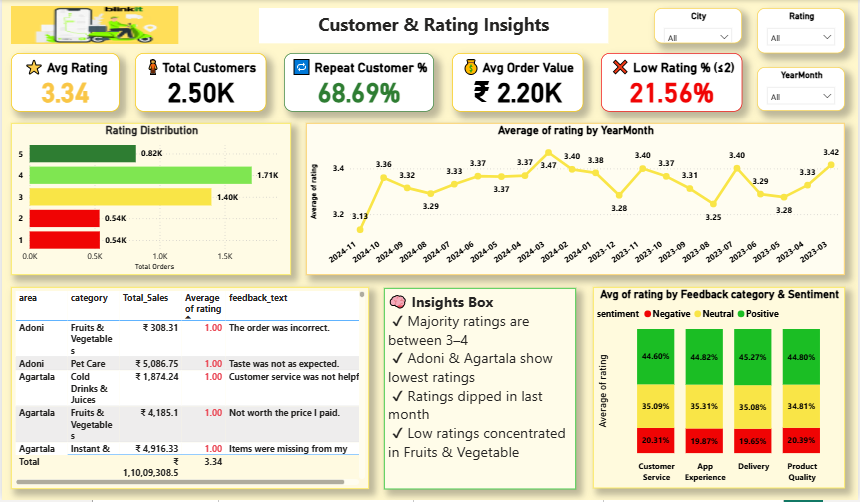

The dashboard page shown, as its layout file describes it:
{"tool":"powerbi","page":{"name":"Customer & Rating Insights","canvas":[1285,750],"ordinal":2},"visuals":[{"type":"textbox","box":[385.9,11.5,524.2,53.3],"z":0},{"type":"card","title":"🧍 Total Customers","fields":{"Values":["Dim_Date.Total Customers"]},"box":[200.2,79.2,197.3,87.8],"z":1000},{"type":"card","title":"⭐ Avg Rating","fields":{"Values":["Avg(blinkit_customer_feedback.rating)"]},"box":[13,79.2,162.7,87.8],"z":2000},{"type":"card","title":"💰 Avg Order Value","fields":{"Values":["Dim_Date.Avg Order Value"]},"box":[675.4,79.2,197.3,87.8],"z":3000},{"type":"card","title":"🔁 Repeat Customer %","fields":{"Values":["Dim_Date.Repeat Customers %"]},"box":[423.4,79.2,224.6,87.8],"z":4000},{"type":"card","title":"❌ Low Rating % (≤2)","fields":{"Values":["Dim_Date.Low Rating %"]},"box":[898.6,79.2,211.7,87.8],"z":5000},{"type":"slicer","title":"City","fields":{"Values":["blinkit_customers.area"]},"box":[977.8,11.5,132.5,53.3],"z":6000},{"type":"slicer","title":"YearMonth","fields":{"Values":["Dim_Date.YearMonth"]},"box":[1131.8,100.8,132.5,66.2],"z":7000},{"type":"slicer","title":"Rating","fields":{"Values":["blinkit_customer_feedback.rating"]},"box":[1131.8,11.5,132.5,67.7],"z":8000},{"type":"barChart","title":"Rating Distribution","fields":{"Y":["Dim_Date.Total Orders"],"Category":["blinkit_customer_feedback.rating"]},"box":[13,184.3,420.5,227.5],"z":9000},{"type":"lineChart","fields":{"Y":["Avg(blinkit_customer_feedback.rating)"],"Category":["Dim_Date.YearMonth"]},"box":[456.5,184.3,807.8,227.5],"z":10000},{"type":"hundredPercentStackedColumnChart","title":"Avg of rating by Feedback category & Sentiment","fields":{"Category":["blinkit_customer_feedback.feedback_category"],"Series":["blinkit_customer_feedback.sentiment"],"Y":["Avg(blinkit_customer_feedback.rating)"]},"box":[886.5,430.5,378,301.5],"z":11000},{"type":"textbox","box":[573,432,288,301.5],"z":12000},{"type":"tableEx","fields":{"Values":["blinkit_customers.area","blinkit_products.category","Dim_Date.Total_Sales","Avg(blinkit_customer_feedback.rating)","blinkit_customer_feedback.feedback_text"]},"box":[13.5,430.5,537,303],"z":13000},{"type":"image","box":[13.5,9,250.5,57],"z":14000}]}

Visuals, with their boxes in screenshot pixels (x1, y1, x2, y2), scaled from the page's 1285x750 canvas onto the 860x502 screenshot:
textbox: locate(258, 8, 609, 43)
"🧍 Total Customers" card: locate(134, 53, 266, 112)
"⭐ Avg Rating" card: locate(9, 53, 118, 112)
"💰 Avg Order Value" card: locate(452, 53, 584, 112)
"🔁 Repeat Customer %" card: locate(283, 53, 434, 112)
"❌ Low Rating % (≤2)" card: locate(601, 53, 743, 112)
"City" slicer: locate(654, 8, 743, 43)
"YearMonth" slicer: locate(757, 67, 846, 112)
"Rating" slicer: locate(757, 8, 846, 53)
"Rating Distribution" barChart: locate(9, 123, 290, 276)
lineChart - Avg(blinkit_customer_feedback.rating) x Dim_Date.YearMonth: locate(306, 123, 846, 276)
"Avg of rating by Feedback category & Sentiment" hundredPercentStackedColumnChart: locate(593, 288, 846, 490)
textbox: locate(383, 289, 576, 491)
tableEx - blinkit_customers.area x blinkit_products.category: locate(9, 288, 368, 491)
image: locate(9, 6, 177, 44)
